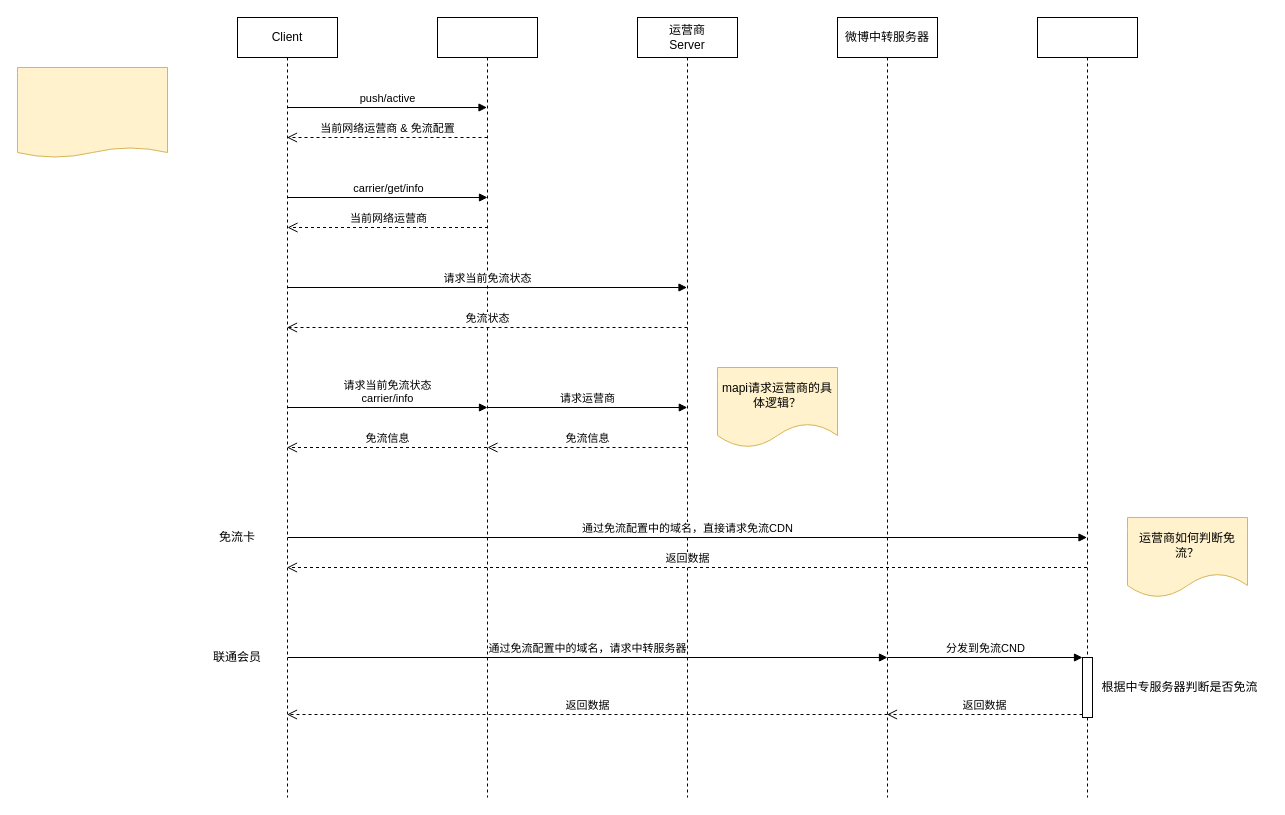
This 1285x815 diagram has some shape labels left out. The box of each missing label's shape, as (x1, y1, x2, y2) in pixels:
mapi: (436, 16, 538, 798)
免流CDN: (1036, 16, 1138, 798)
免流配置包含联通会员和免流卡的相关配置，具体见接口文档。: (16, 66, 168, 158)
